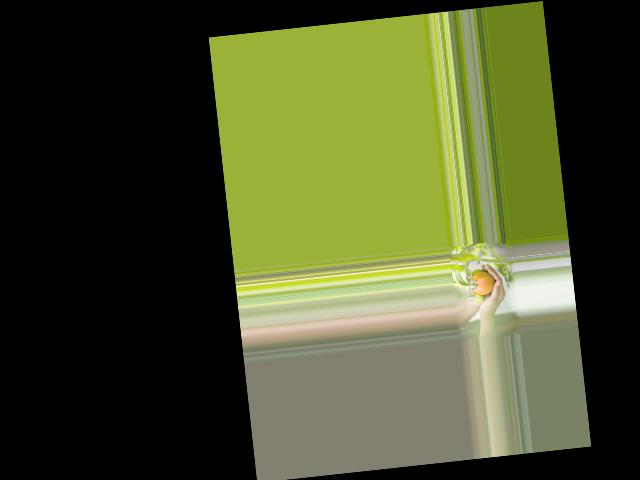tomato: (469, 271, 495, 296)
